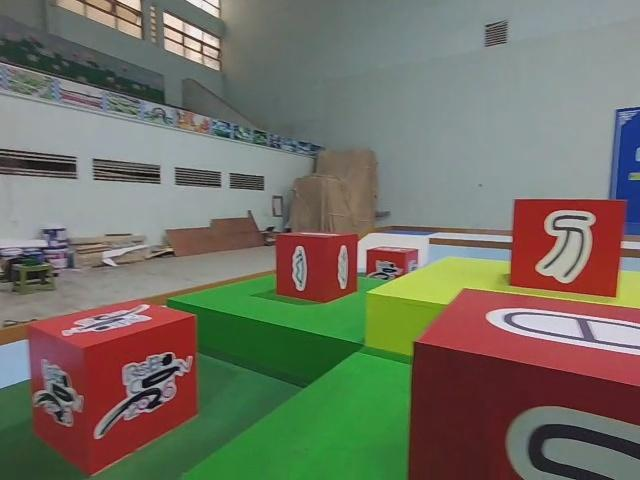R1: (26, 296, 201, 478), (365, 242, 420, 287)
R2 Fake: (406, 285, 640, 480), (507, 195, 629, 301)
R2 Real: (274, 229, 359, 303)
